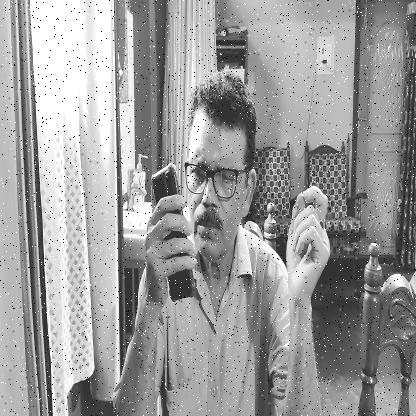Distracted: (184, 62, 260, 274)
